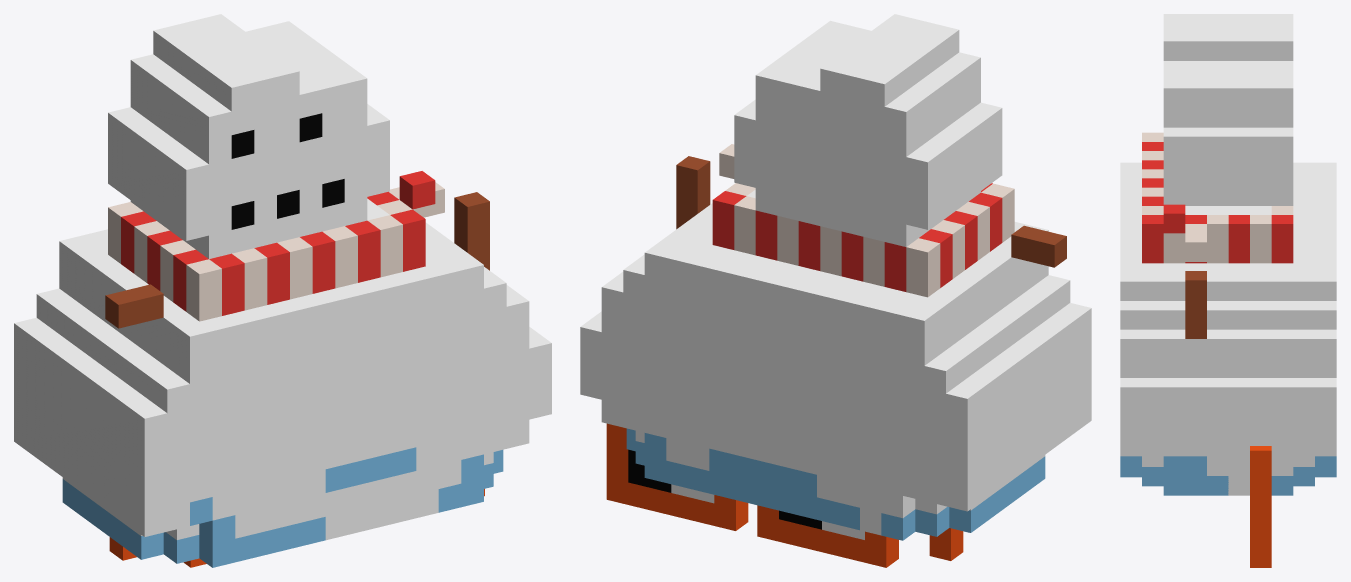
File: snowman.glb
3 renders of one model, left to right at view 1: azimuth 30°, elevation 25°; view 2: azimuth 150°, elevation 25°; view 3: azimuth 270°, elevation 25°, orthographic. The views are drawn at different scales.
Visible parts, largest first — view 1: base, head, scarf, mouth; view 2: base, head, scarf, glasses, layer-2; view 3: base, head, scarf, glasses.
Boxes of the visible parts, left/top/right/bottom form: base: left=14, top=192, right=551, bottom=567; head: left=108, top=14, right=389, bottom=258; scarf: left=108, top=171, right=444, bottom=321; mouth: left=325, top=447, right=416, bottom=492; base: left=580, top=156, right=1091, bottom=540; head: left=734, top=14, right=1002, bottom=246; scarf: left=712, top=144, right=1014, bottom=297; glasses: left=606, top=423, right=963, bottom=567; layer-2: left=628, top=449, right=864, bottom=539; base: left=1120, top=162, right=1336, bottom=495; head: left=1163, top=14, right=1293, bottom=205; scarf: left=1142, top=132, right=1293, bottom=263; glasses: left=1250, top=446, right=1271, bottom=567.
Bounding box in the file's own units: 18.5 × 22 × 10.
Materials: 16 (16 with a texture image).
